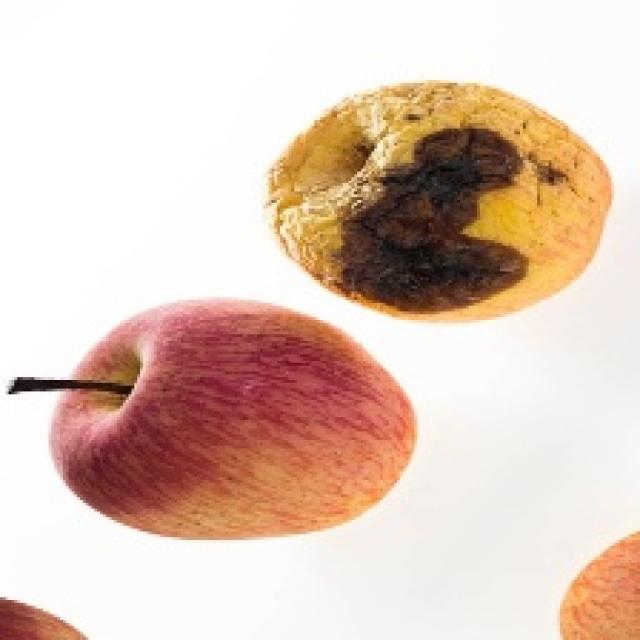rotten_apple: (277, 81, 608, 318)
